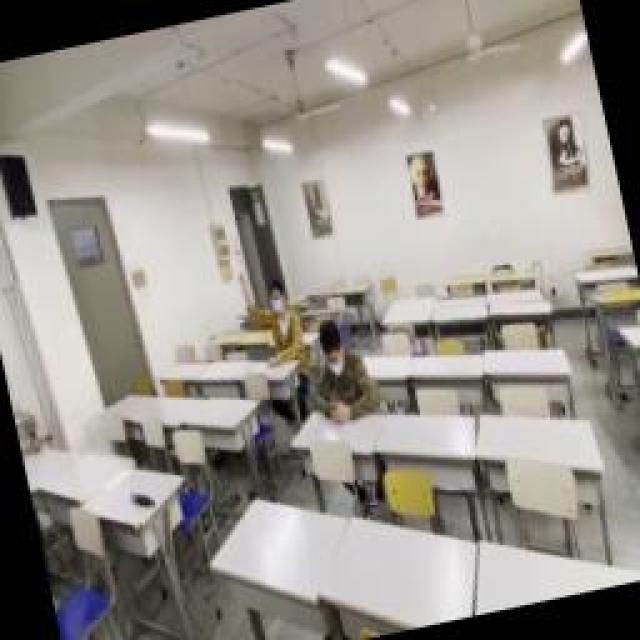phone: (300, 310, 378, 422)
study: (237, 260, 305, 365)
